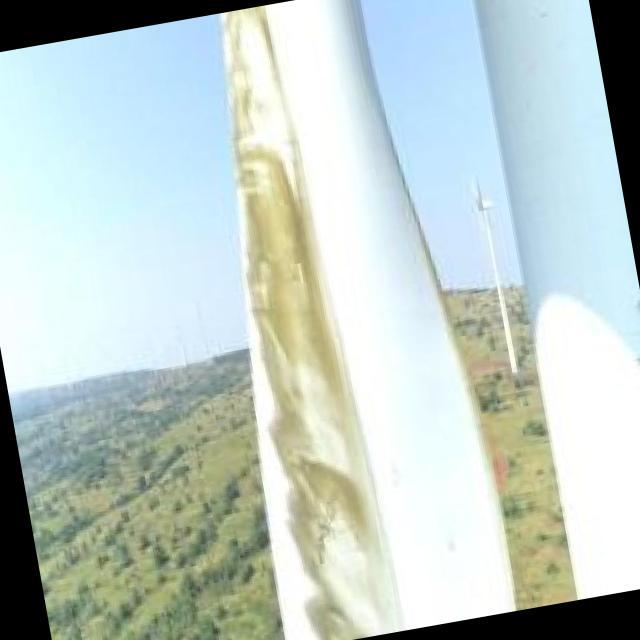Dirt: (220, 5, 403, 640)
